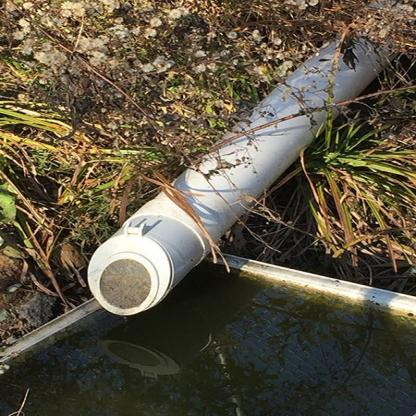PVC: (87, 18, 401, 315)
